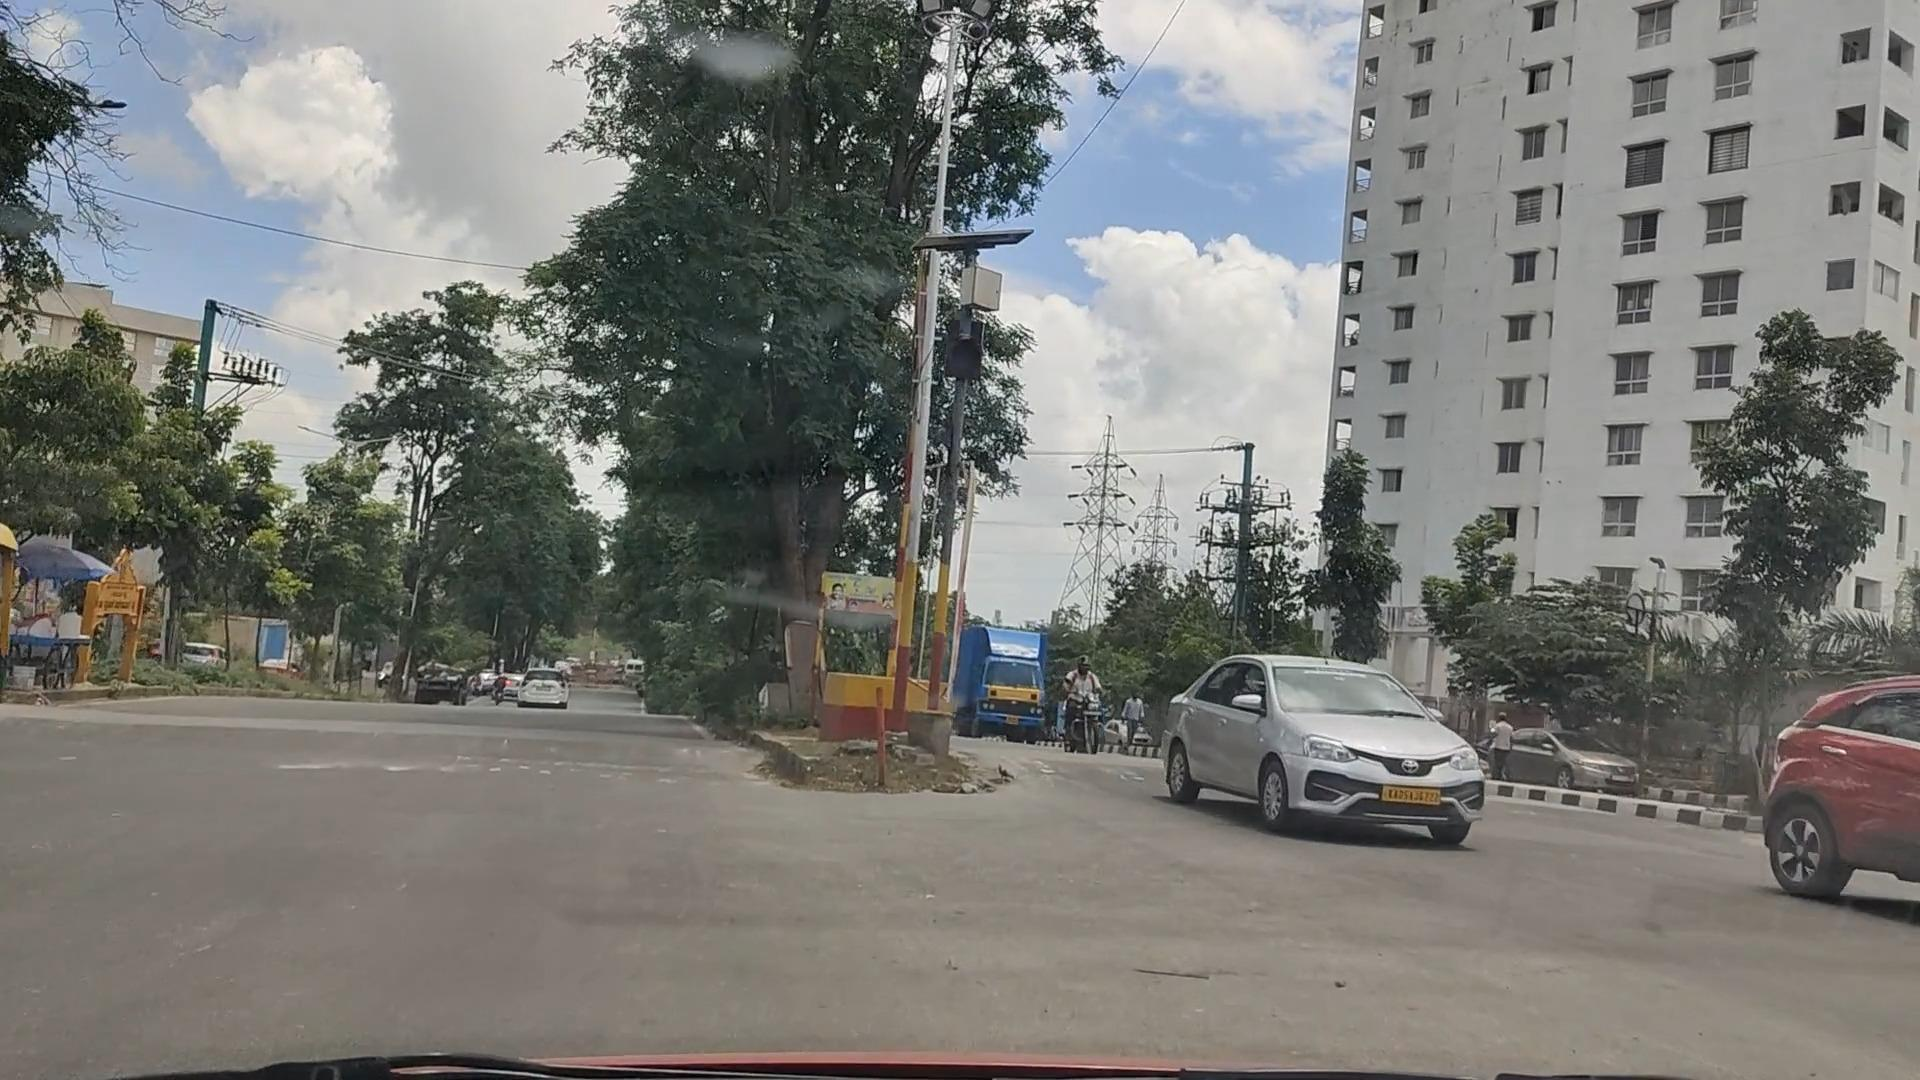LMV: (1174, 642, 1482, 847)
